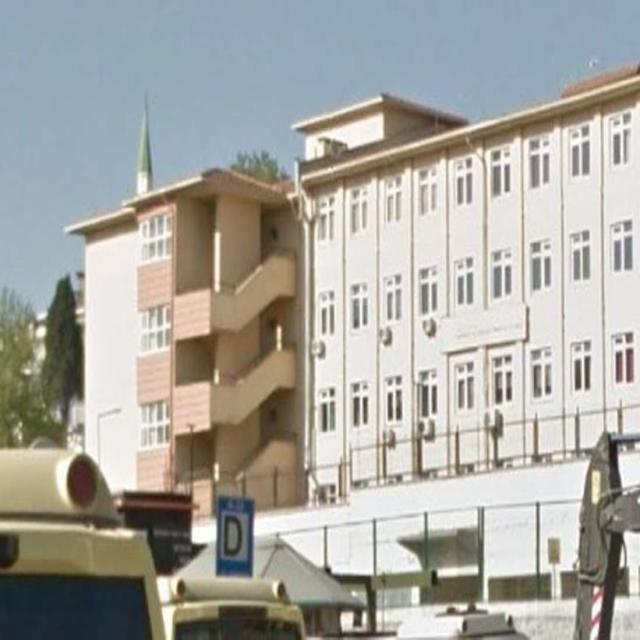durak: (218, 496, 254, 577)
